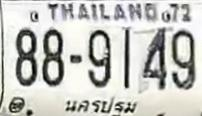1: (122, 27, 130, 88)
4: (140, 27, 166, 89)
8: (41, 28, 64, 86), (16, 28, 38, 86)
9: (87, 29, 111, 88), (171, 28, 194, 88)
NPT: (58, 91, 144, 116)
